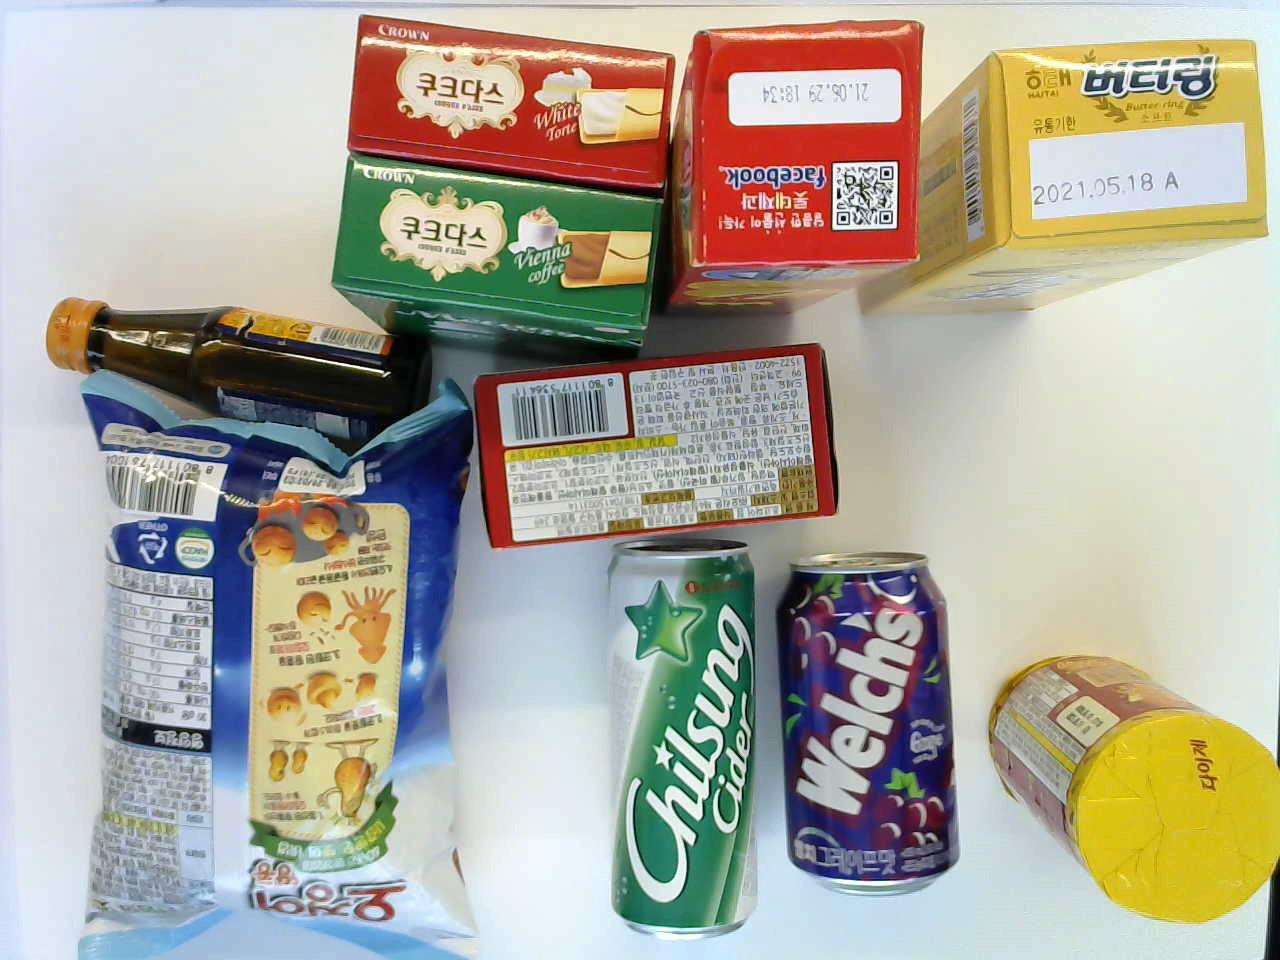buttering: (847, 46, 1272, 313)
chocopie: (472, 343, 837, 551)
cidar: (609, 532, 754, 935)
couque_coffee: (328, 153, 672, 353)
couque_white: (342, 14, 670, 182)
diget_ori: (972, 655, 1280, 926)
squid_peanut: (75, 380, 471, 956)
vita500: (44, 296, 431, 440)
welchs: (787, 553, 950, 895)
zec: (665, 18, 923, 305)
